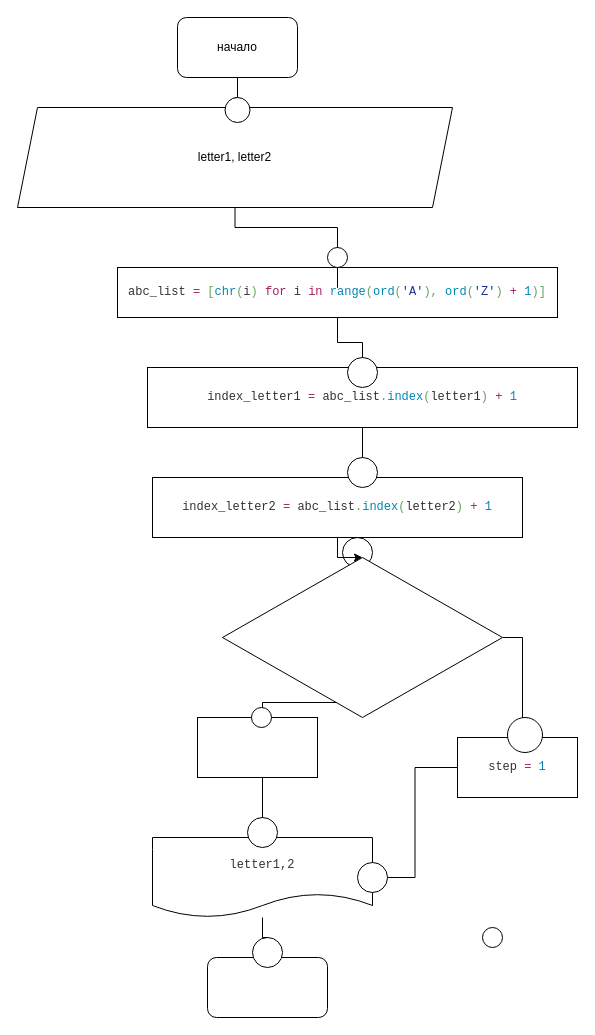
This 595x1035 diagram has some shape labels left out. Each missing label, with the box of its shape:
index_letter1 < index_letter2 : step = 1: (222, 556, 502, 718)
step = - 1: (196, 716, 318, 778)
конец: (206, 956, 328, 1018)
